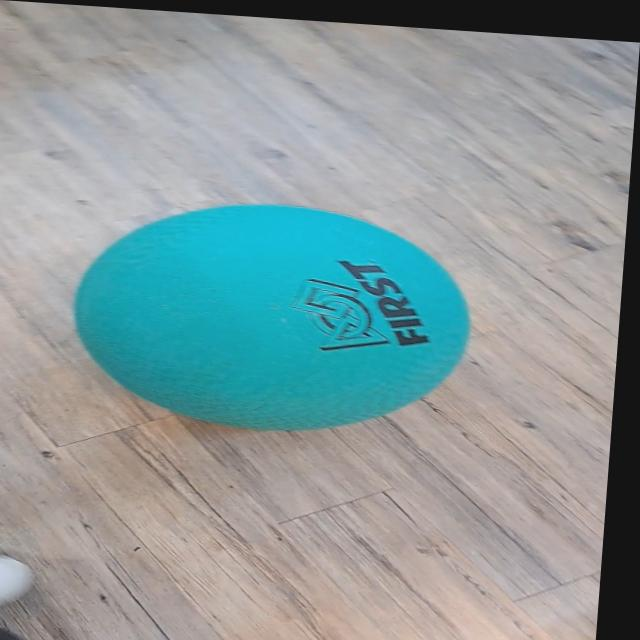ALGAE: (63, 189, 480, 445)
